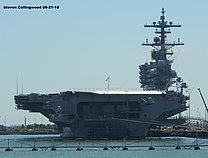MIL_Ship: (13, 7, 189, 141)
